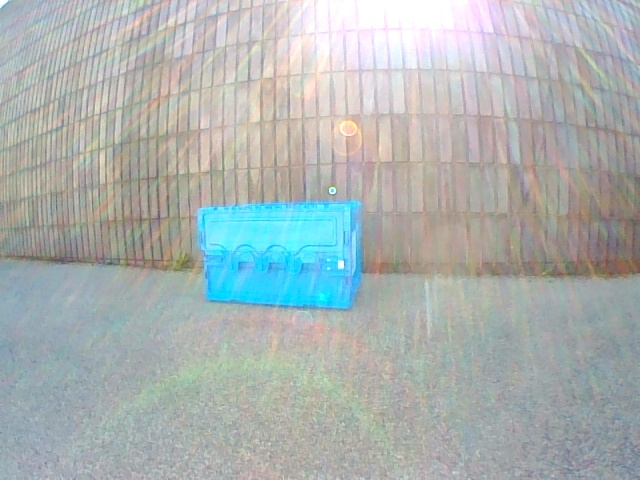blue_box: (200, 202, 359, 309)
